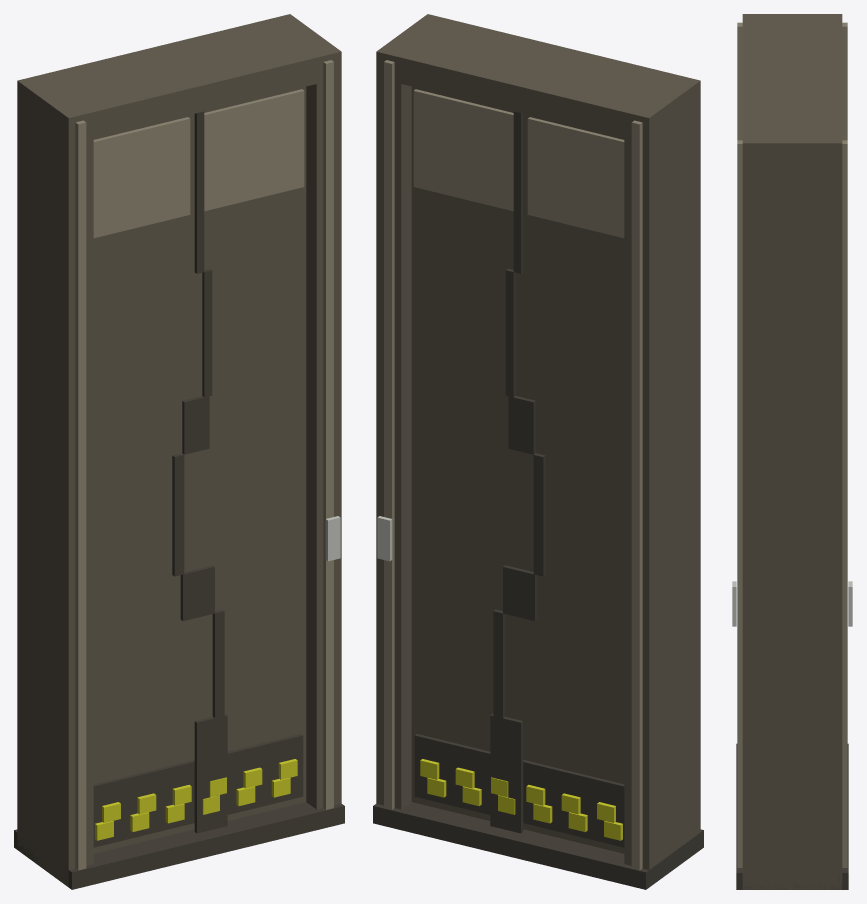
Rendered from CMU3DSingleGovforDoor.glb.
3 renders of one model, left to right at view 1: azimuth 30°, elevation 25°; view 2: azimuth 150°, elevation 25°; view 3: azimuth 270°, elevation 25°, orthographic. The views are drawn at different scales.
Visible parts, largest first — view 1: closed leaf body, door jamb (×2), header, upper inset band (×2), jamb raised edge (×2), leaf meeting seam (×7), lower hazard backing, threshold, side access reader; view 2: closed leaf body, door jamb (×2), header, upper inset band back (×2), jamb raised edge (×2), leaf meeting seam back (×7), threshold, lower hazard backing back, side access reader back; view 3: door jamb (×2), header, jamb raised edge (×4), threshold.
Boxes of the visible parts, <box> form: closed leaf body: <box>93,86,306,853</box>; door jamb (×2): <box>17,14,341,887</box>; header: <box>17,14,341,144</box>; upper inset band (×2): <box>93,89,304,238</box>; jamb raised edge (×2): <box>75,60,333,870</box>; leaf meeting seam (×7): <box>172,111,227,833</box>; lower hazard backing: <box>93,734,303,847</box>; threshold: <box>14,802,344,889</box>; side access reader: <box>325,516,340,561</box>; closed leaf body: <box>411,86,624,853</box>; door jamb (×2): <box>376,14,700,869</box>; header: <box>376,14,700,144</box>; upper inset band back (×2): <box>413,89,624,238</box>; jamb raised edge (×2): <box>384,60,642,870</box>; leaf meeting seam back (×7): <box>490,111,545,833</box>; threshold: <box>373,802,703,889</box>; lower hazard backing back: <box>414,734,624,847</box>; side access reader back: <box>377,516,392,561</box>; door jamb (×2): <box>742,14,842,889</box>; header: <box>742,14,842,168</box>; jamb raised edge (×4): <box>737,22,847,867</box>; threshold: <box>736,743,848,889</box>.
Size of the model in its own units: 0.98 by 2.64 by 0.386.
